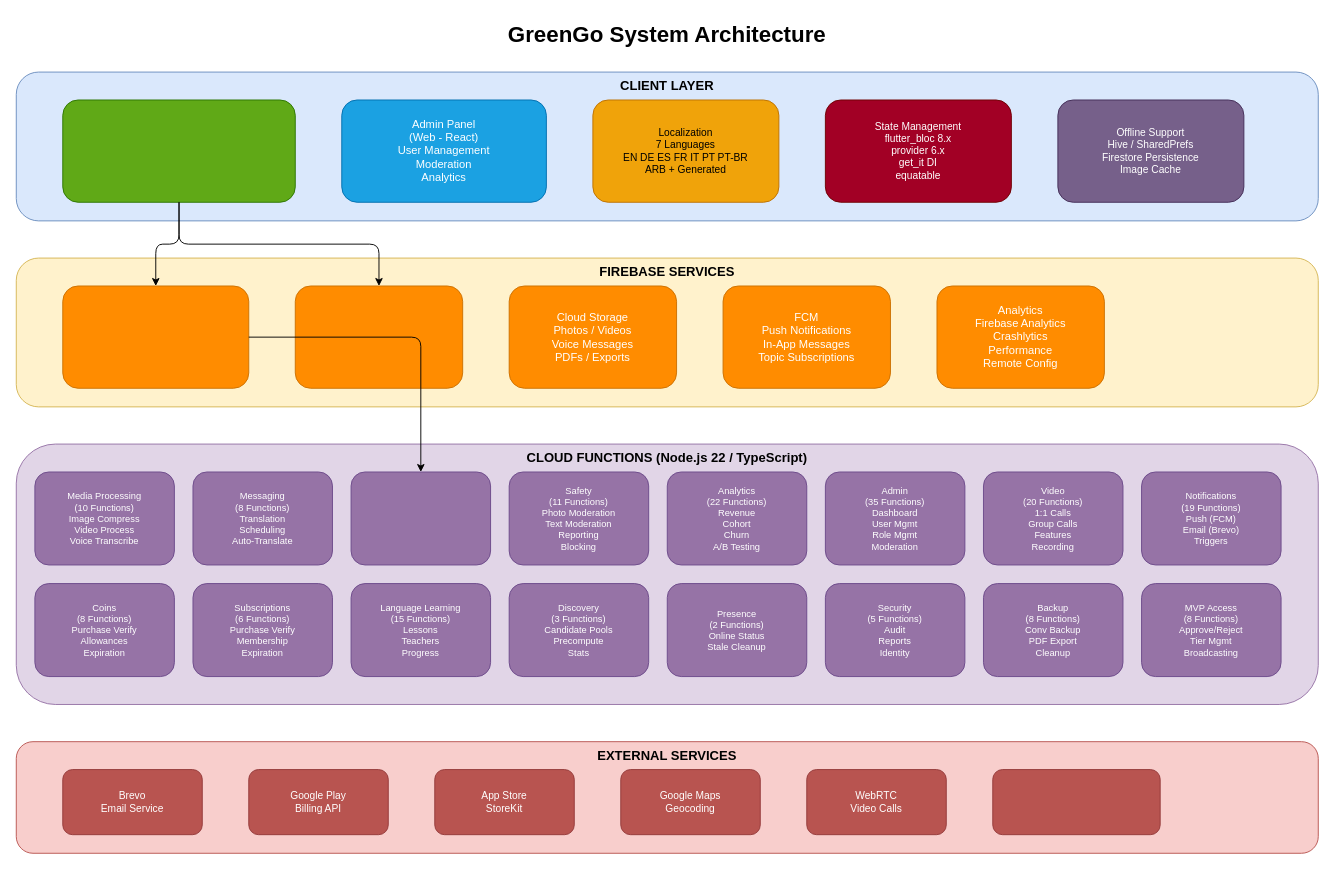
This 1335x870 diagram has some shape labels left out. Here are the shapes that lost their labels. From the top down, the centre of each, then its label:
At point (178, 150): "Flutter Mobile App (Android / iOS) Clean Architecture + BLoC 41 Feature Modules".
At point (155, 336): "Cloud Firestore 170+ Collections Real-time Sync Offline Persistence".
At point (378, 336): "Firebase Auth Email/Password Google Sign-In Apple Sign-In".
At point (420, 518): "Gamification (14 Functions) XP / Levels Achievements Vocabulary Stats".
At point (1076, 802): "AI Services Content Moderation Translation Churn Prediction".
